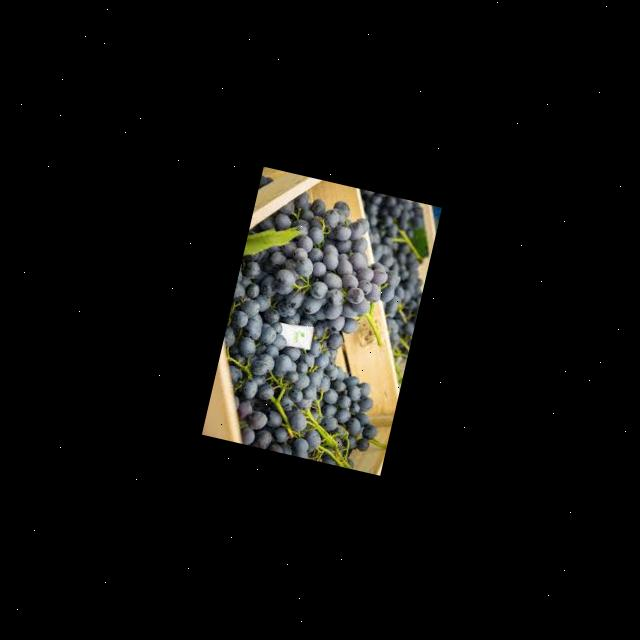grape: (201, 179, 426, 472), (324, 189, 440, 358)
